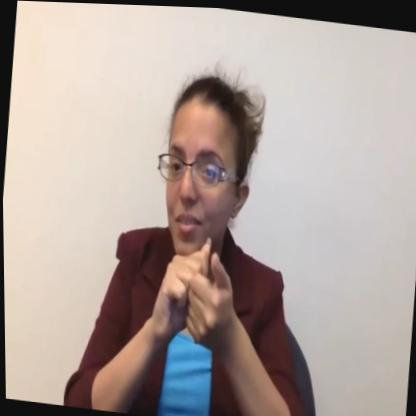HowAreYou: (144, 224, 236, 356)
